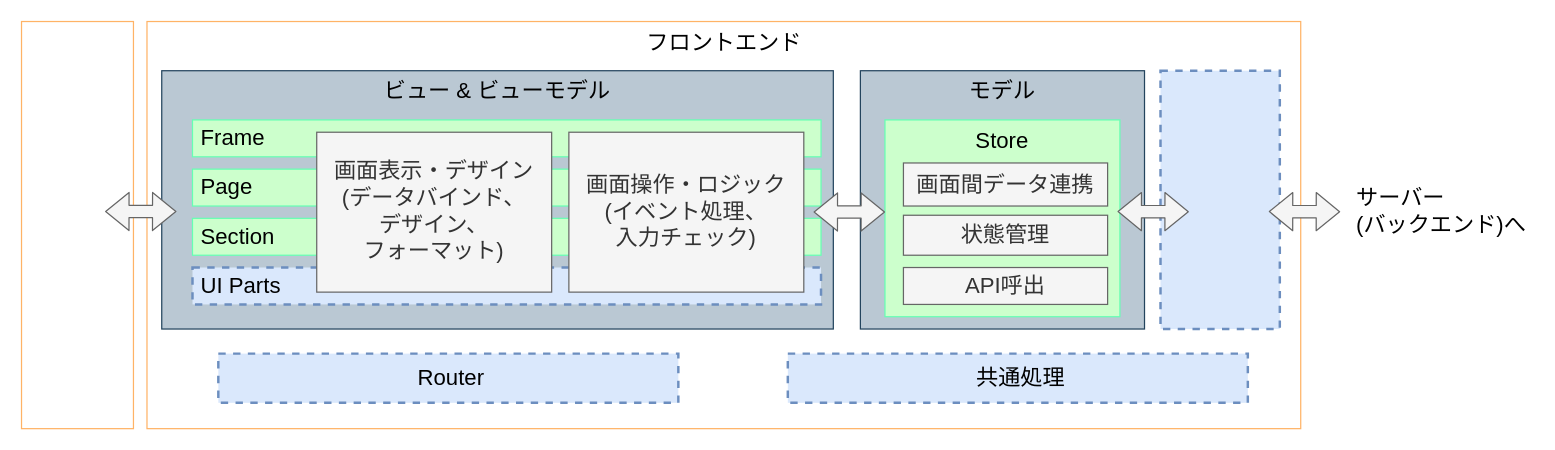
The diagram is 1555 pixels wide and 450 high, and some of its shapes have lost their labels. The shapes that lost their labels are listed below. From the top down, each one's centre as x and y in pixels, then its label:
the point at 1219,199: 通信制御
the point at 76,224: ブラウザ
